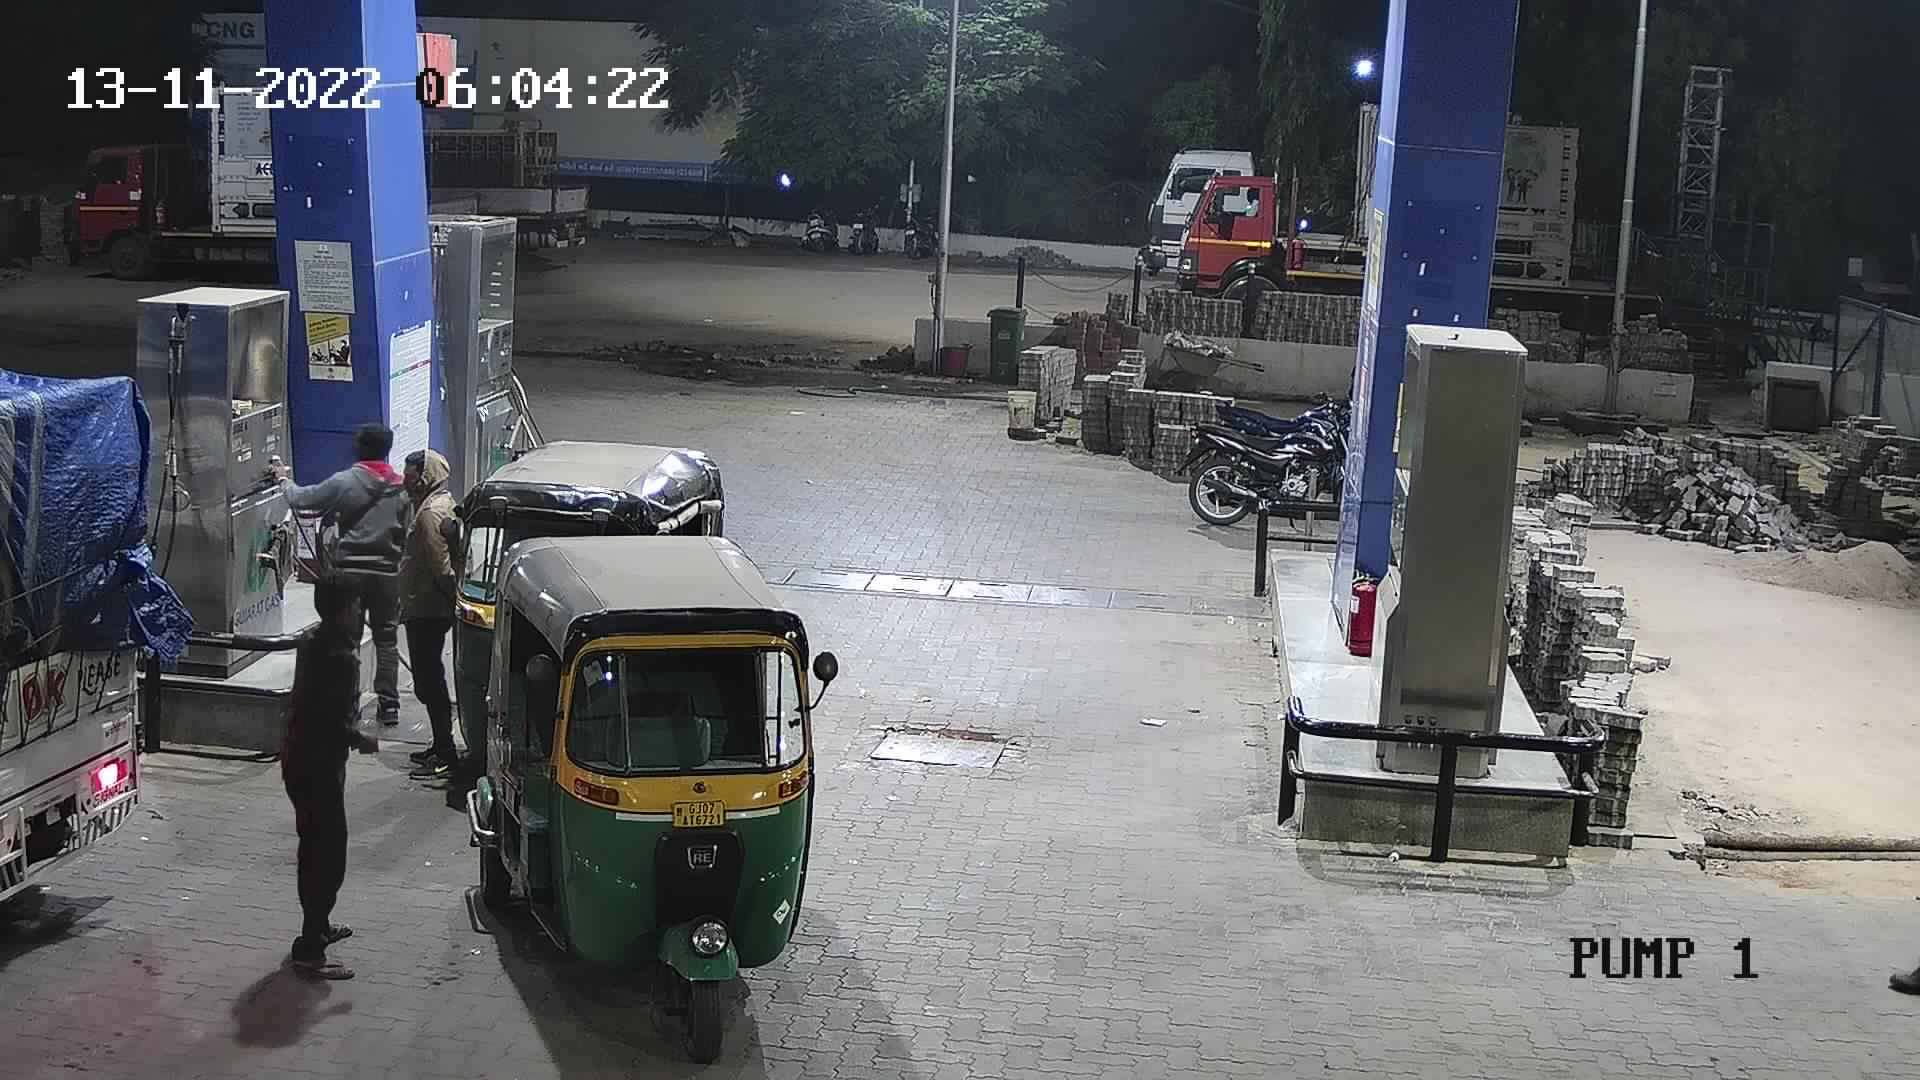Auto: (454, 521, 843, 1073), (436, 434, 736, 782)
Bike: (1167, 378, 1367, 547), (795, 185, 853, 262), (891, 182, 944, 260), (841, 186, 891, 255)
HMV: (1, 324, 204, 918), (1172, 98, 1382, 344), (1124, 95, 1379, 278), (55, 78, 282, 281), (413, 76, 605, 278)
Others: (285, 417, 413, 727)
